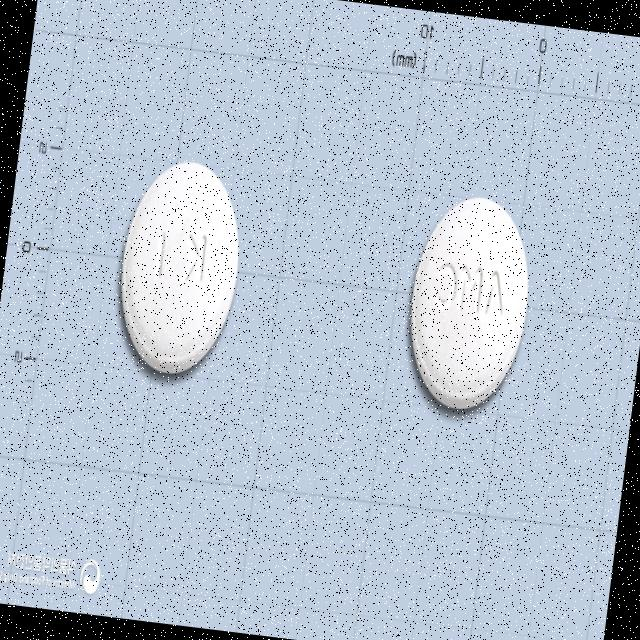Amocla 375mg: (106, 153, 252, 383), (398, 190, 540, 418)
